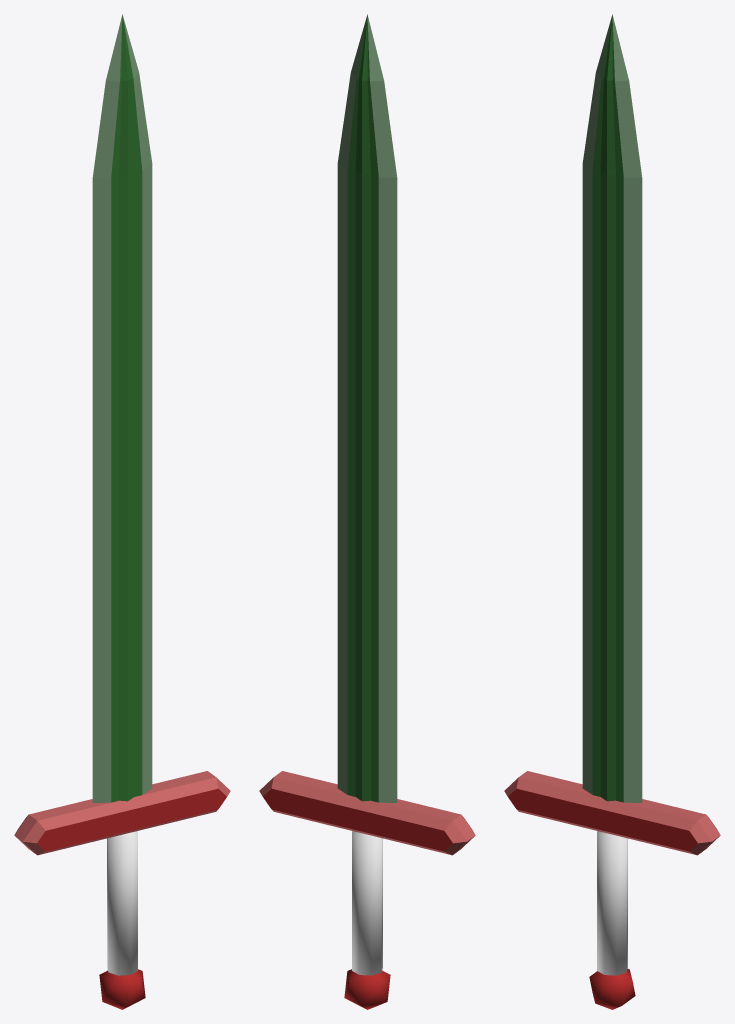
Rendered from christmas_tree_sword.glb.
3 renders of one model, left to right at view 1: azimuth 30°, elevation 25°; view 2: azimuth 150°, elevation 25°; view 3: azimuth 330°, elevation 25°, orthographic.
Visible parts, largest first — view 1: christmas_tree_sword_v0; view 2: christmas_tree_sword_v0; view 3: christmas_tree_sword_v0.
Boxes of the visible parts, bbox=[...] form: christmas_tree_sword_v0: bbox=[14, 14, 230, 1009]; christmas_tree_sword_v0: bbox=[259, 14, 475, 1009]; christmas_tree_sword_v0: bbox=[504, 14, 720, 1009].
Size of the model in its own units: 0.314 by 1.44 by 0.0578.
